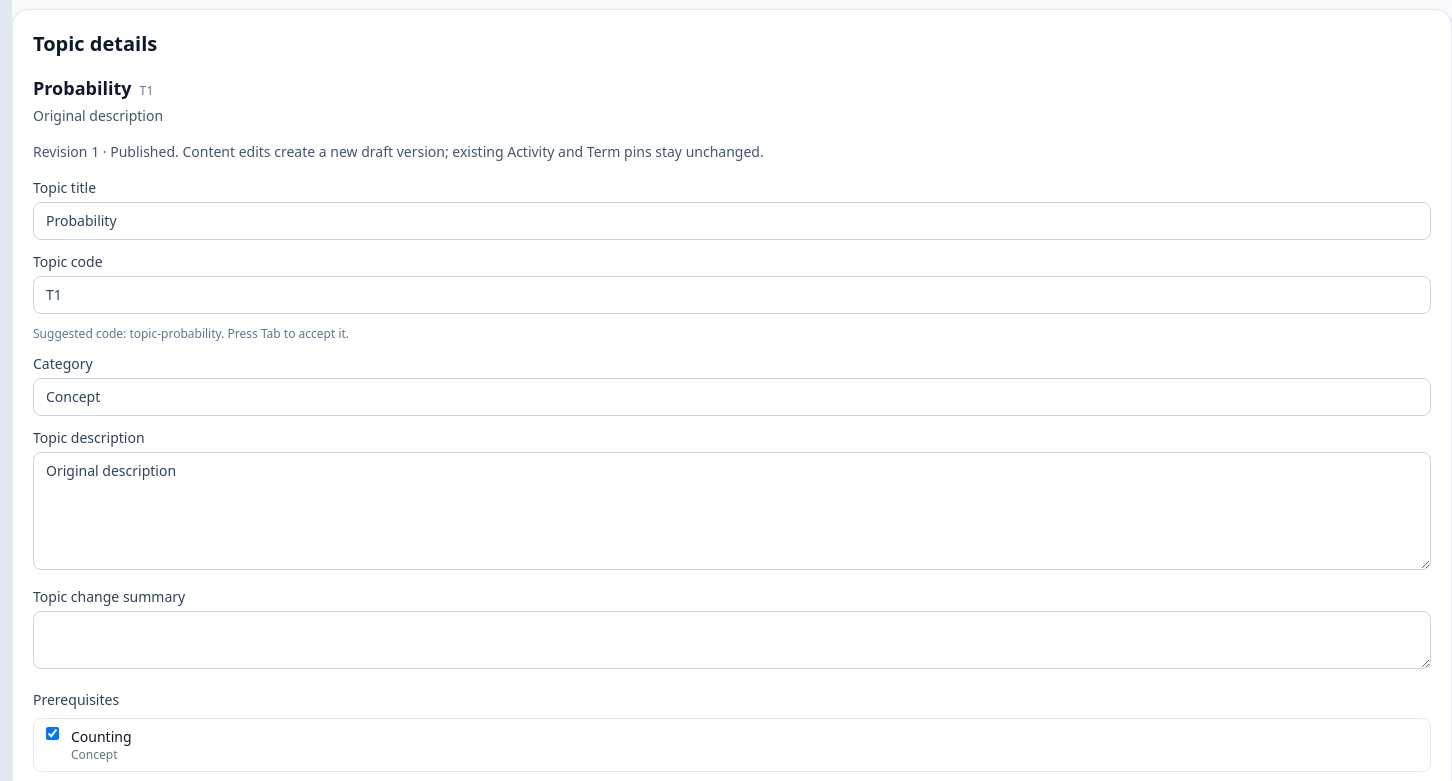
TopicWorkspacePage › retains edits and reports a revision conflict
The image size is (1452, 781).
Expected: the field showing "Probability" is shown, [33,202,1431,240]
Replace the text in the text box labelled "Topic description" with "Keep my edits": x=732, y=511 [33,452,1431,570]
(page scrolled)
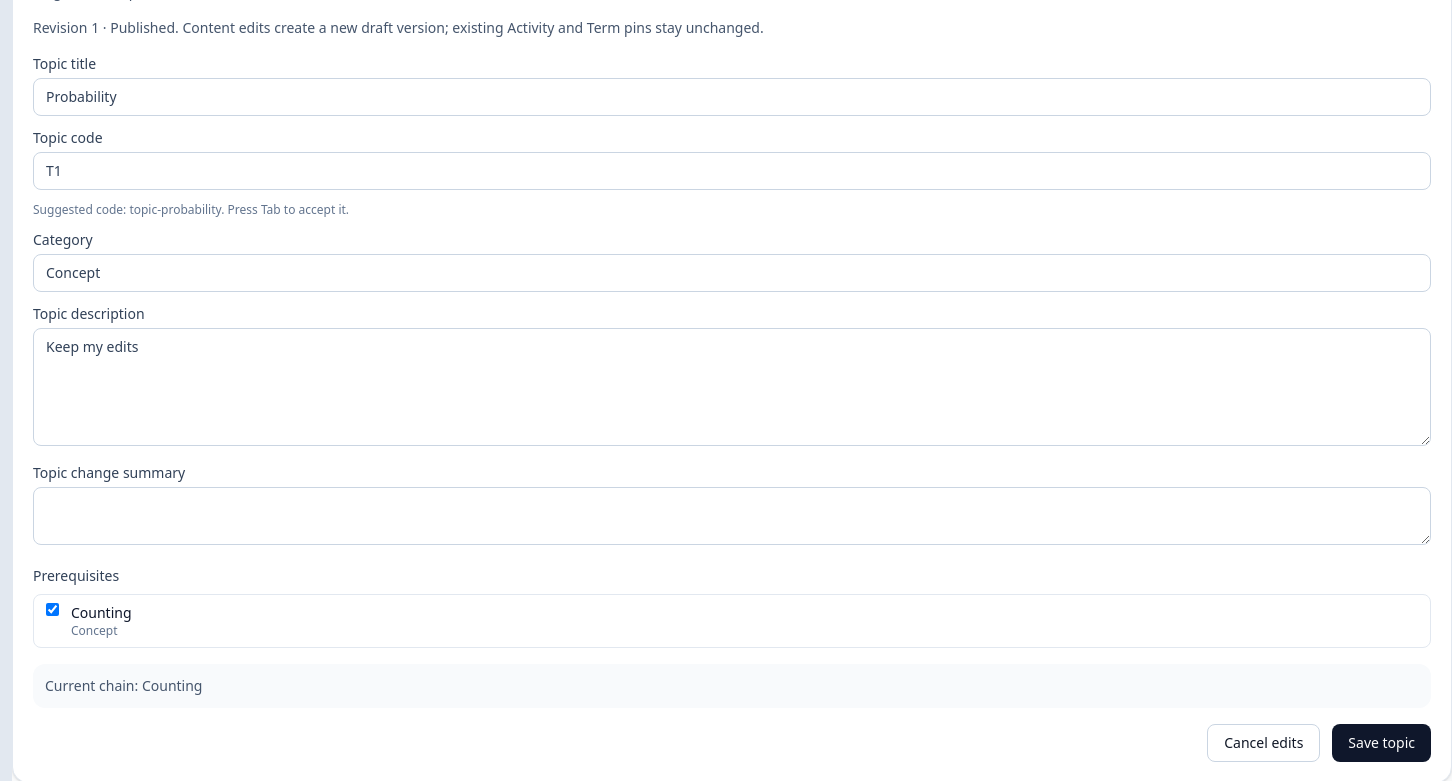
Click the button "Save topic": x=1382, y=743 [1332,724,1431,762]
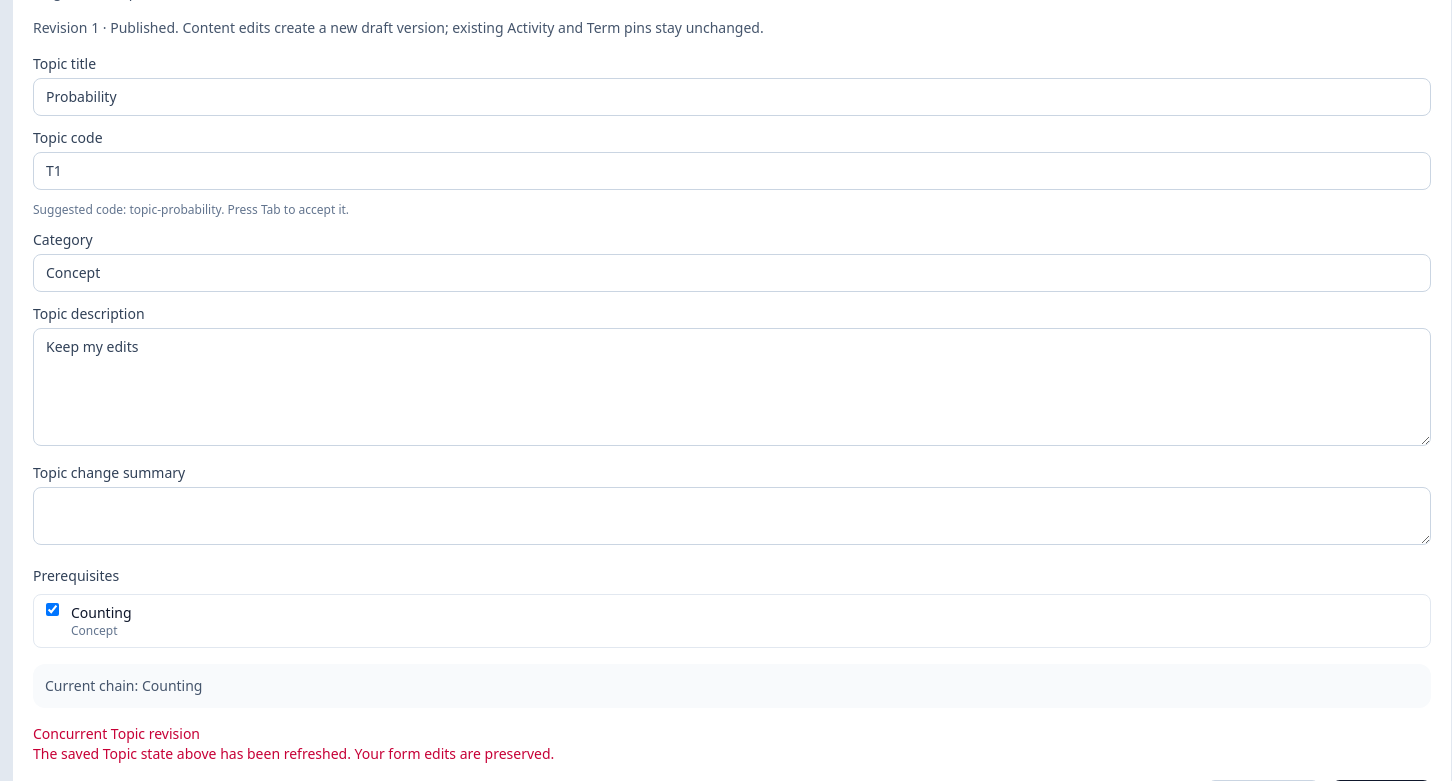
Result: the message that starts with "Concurrent Topic revision" is shown at [33,724,200,743]
Result: the message that starts with "Concurrent Topic revision" shows "form edits are preserved" at [33,744,554,763]
